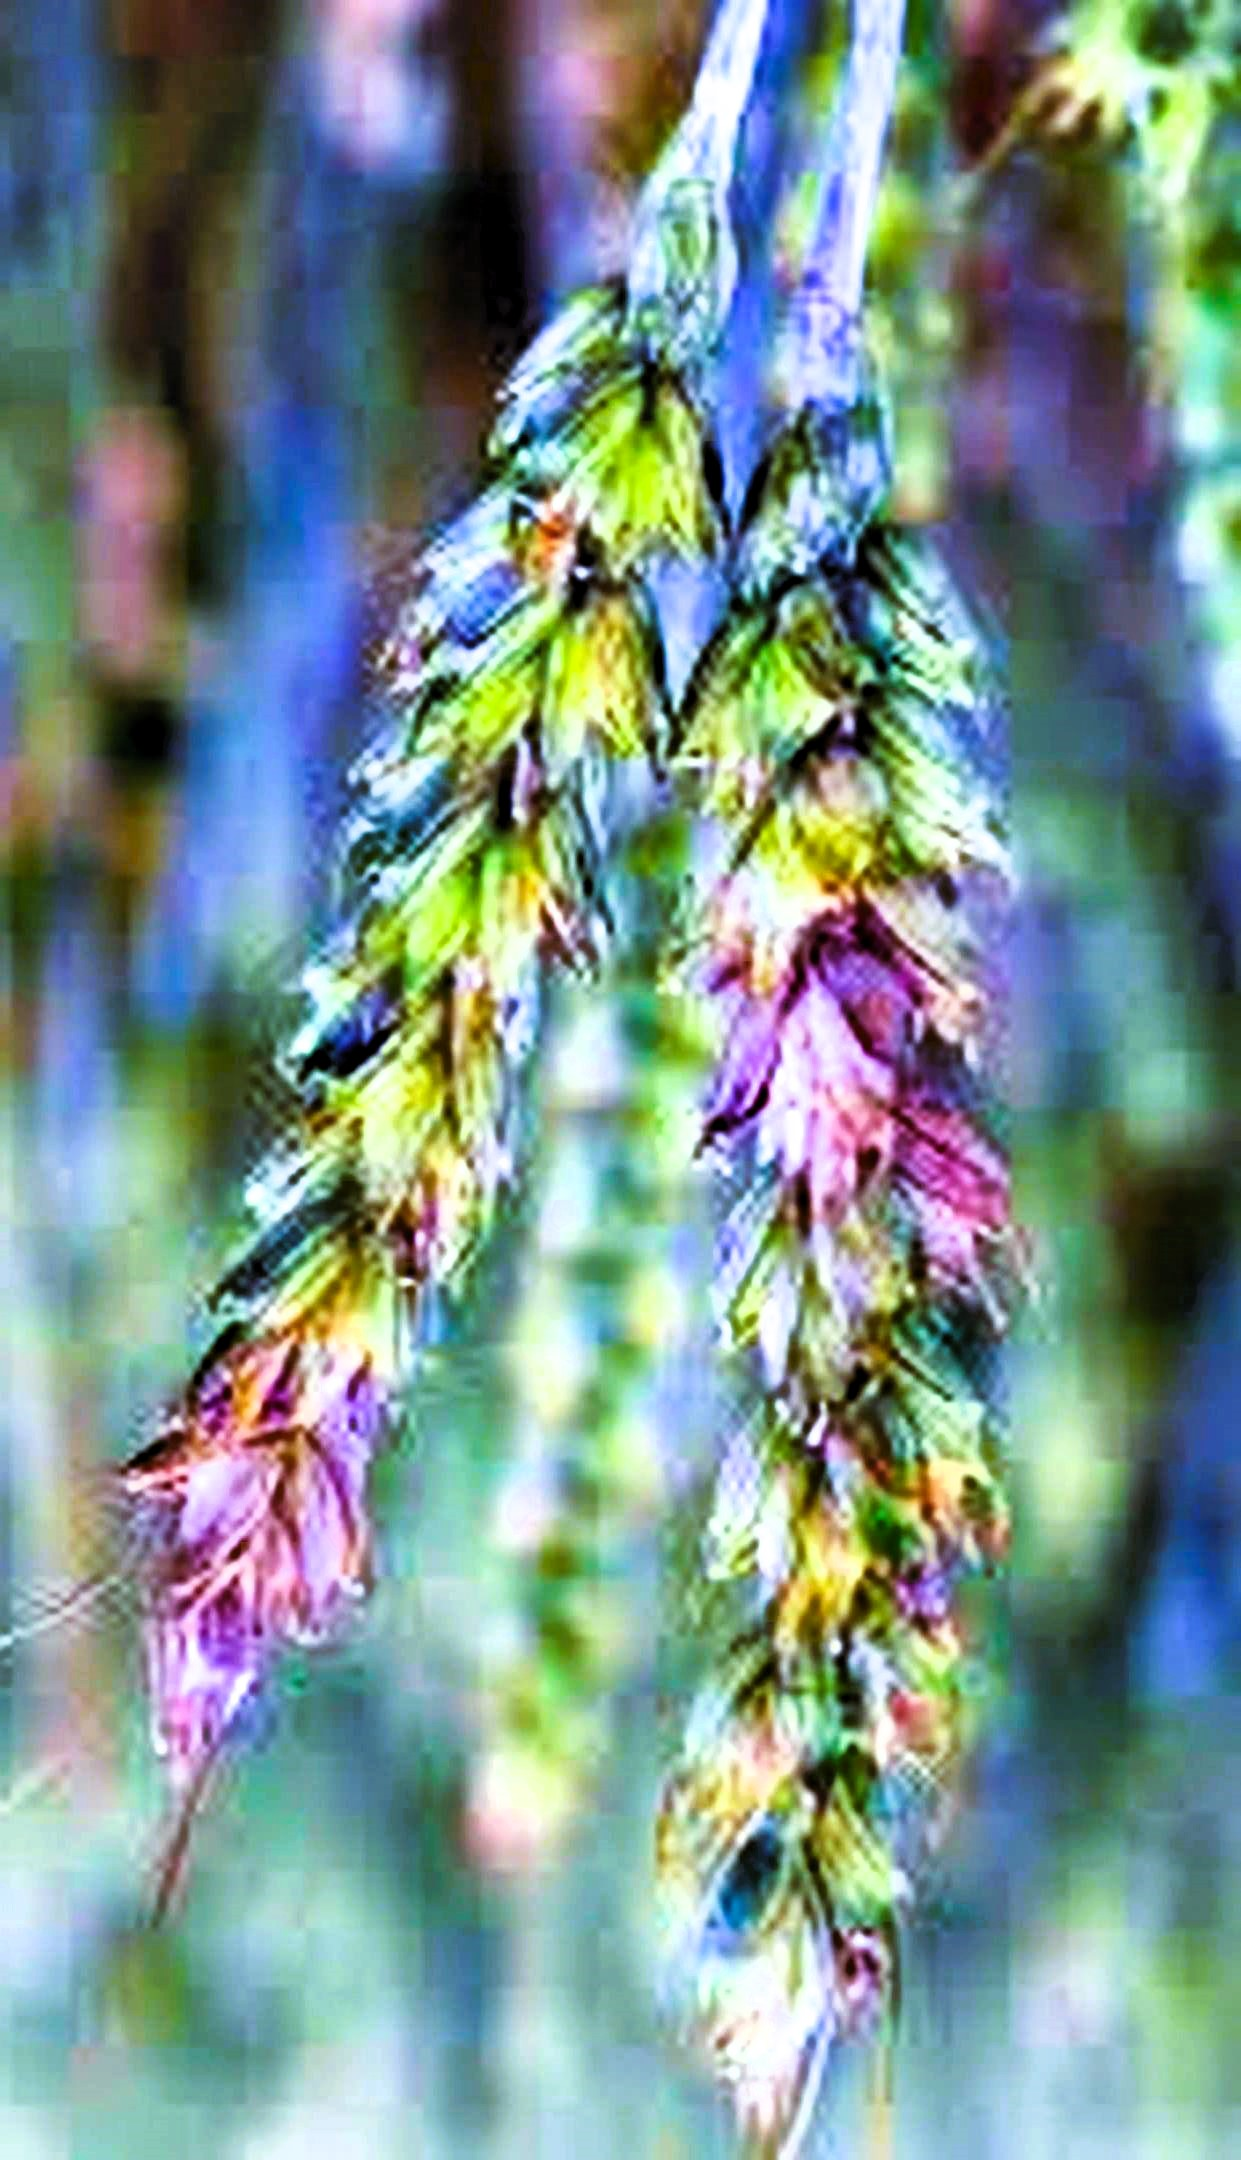Wheat scab: (672, 423, 1030, 2081)
